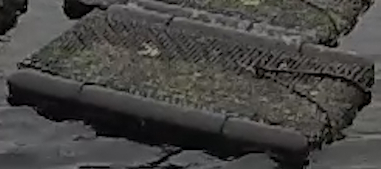bag: (7, 6, 375, 160)
